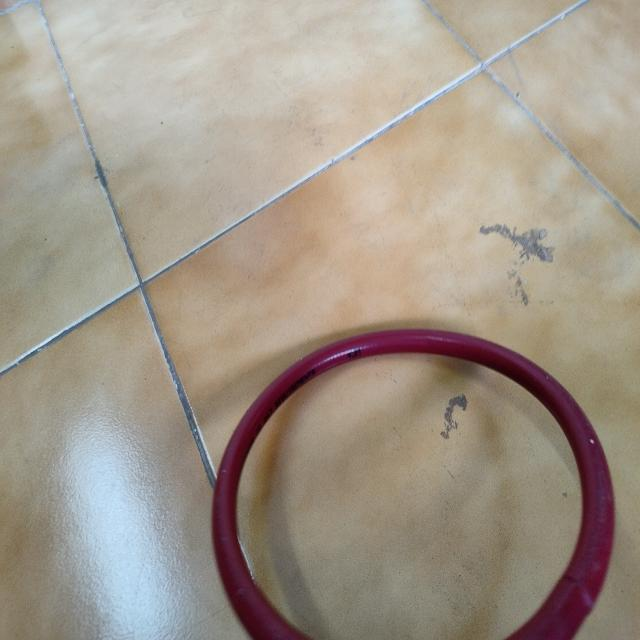daire: (216, 330, 622, 640)
